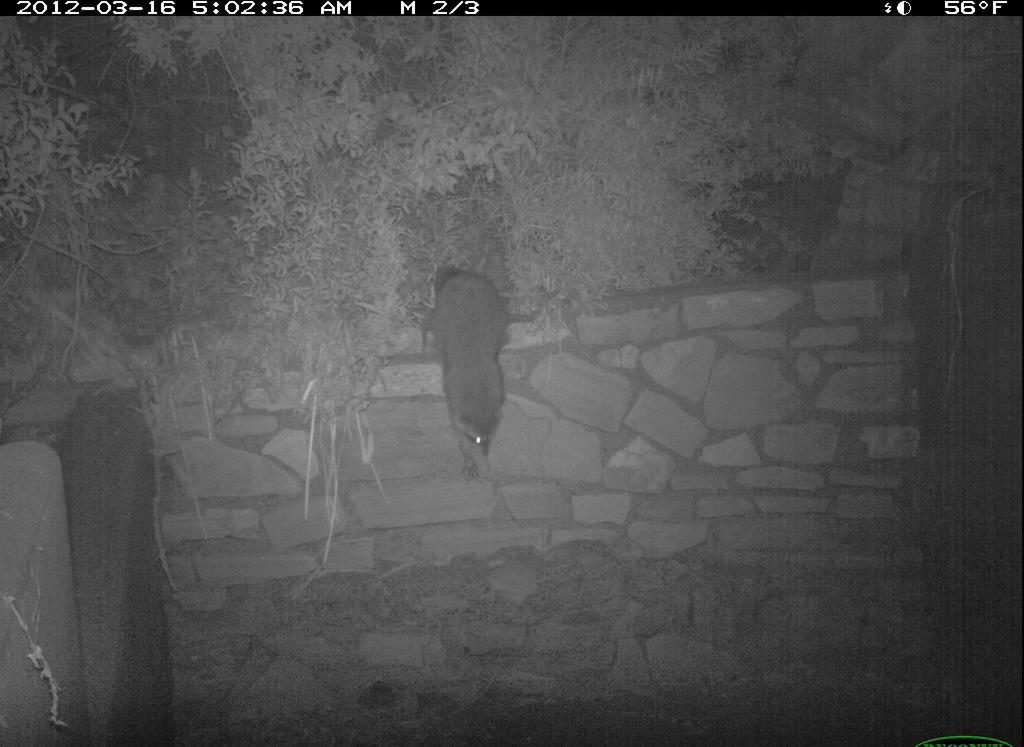raccoon: (397, 251, 524, 478)
